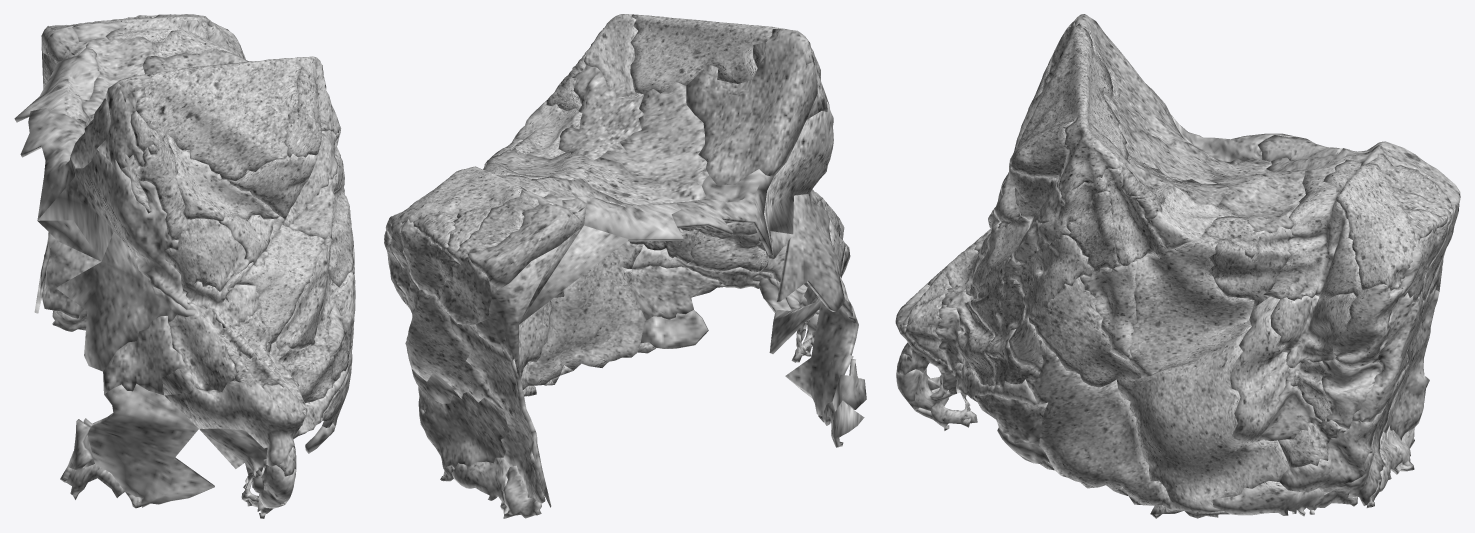
The model's file is Motor01.glb.
3 views of the same model, side by side, from view 1: azimuth 30°, elevation 25°; view 2: azimuth 150°, elevation 25°; view 3: azimuth 270°, elevation 25° (orthographic). The views are drawn at different scales.
Visible parts, largest first — view 1: Mesh_0; view 2: Mesh_0; view 3: Mesh_0.
Part boxes in pixels (x1=…): Mesh_0: x1=14, y1=14, x2=355, y2=518; Mesh_0: x1=384, y1=14, x2=866, y2=518; Mesh_0: x1=895, y1=14, x2=1460, y2=518.
Size of the model in its own units: 0.8278 by 0.9577 by 1.24.
1 material, 1 textured.
